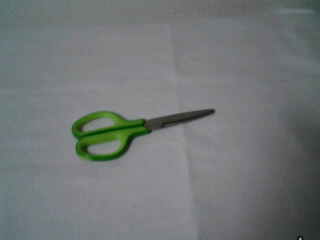003_classes: (64, 99, 217, 163)
